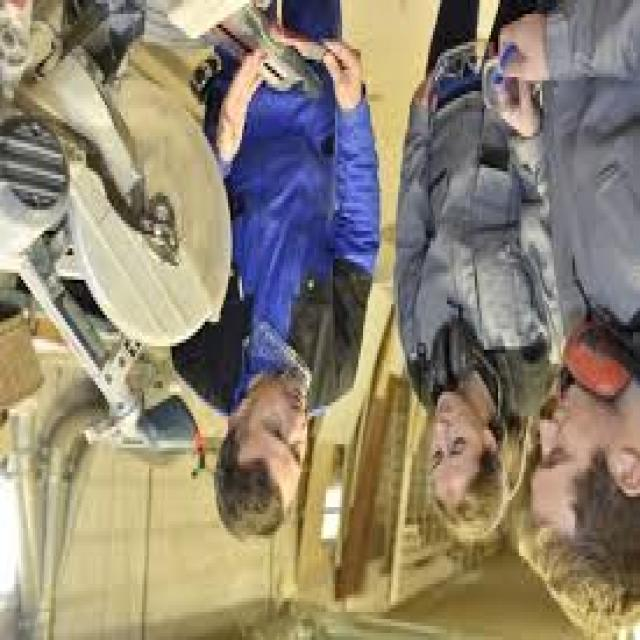Ear-Protection: (558, 314, 630, 406), (444, 318, 482, 388), (426, 329, 451, 388)
